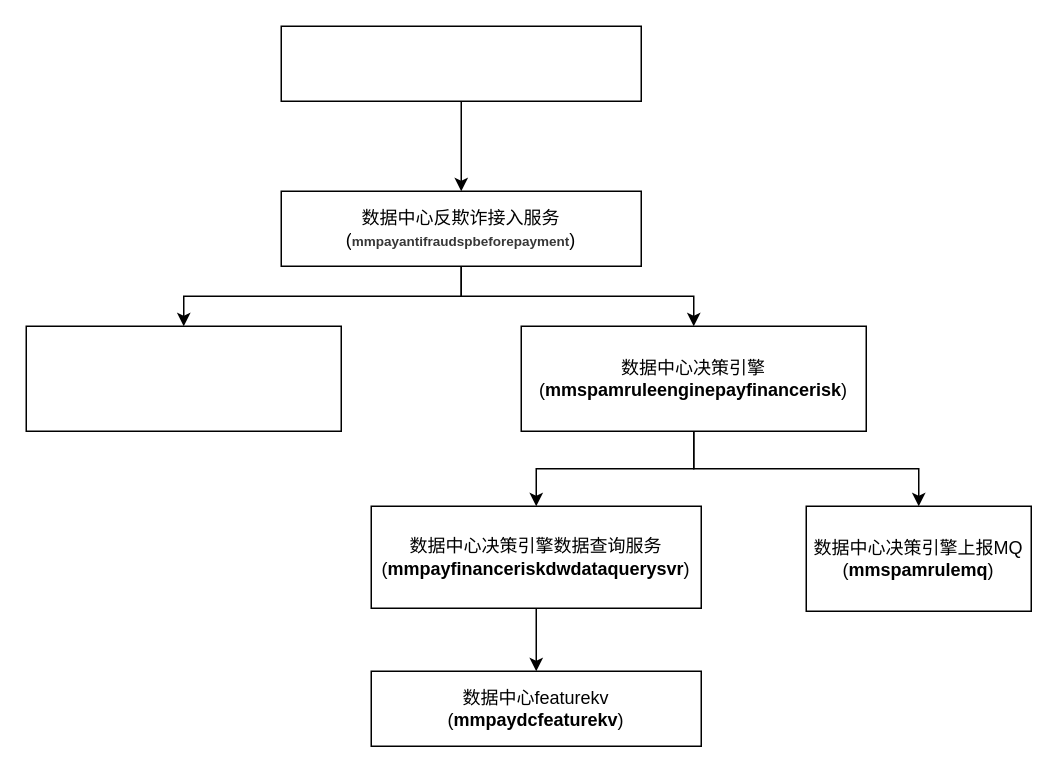
This 1058x773 diagram has some shape labels left out. The shapes that lost their labels are listed below. From the top down, each one's centre as x and y in pixels, then its label:
At pixel 460 63: "聚合风控 (mmpayriskaggr4closelooptransfer)".
At pixel 183 378: "数据中心反欺诈数据上报MQ ( mmpayantifraudspbeforereport )".
